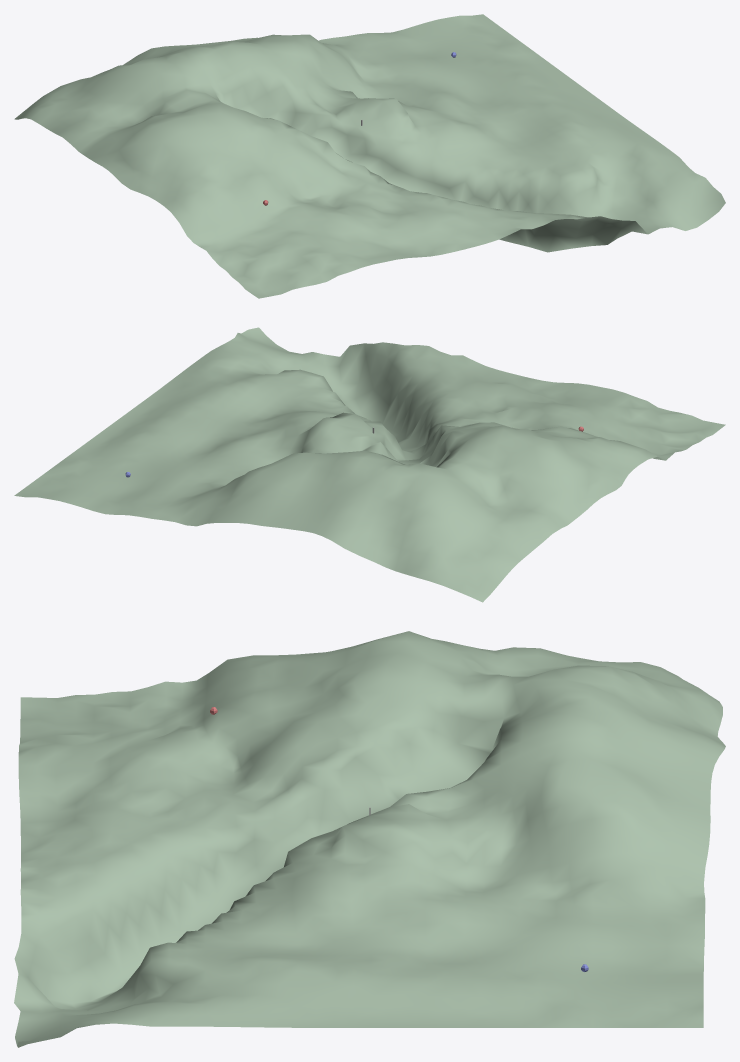
File: 0427_map.fbx
3 views of the same model, one above another, from view 1: azimuth 30°, elevation 25°; view 2: azimuth 150°, elevation 25°; view 3: azimuth 270°, elevation 25° (orthographic). The views are drawn at different scales.
Visible parts, largest first — view 1: pPlane1; view 2: pPlane1; view 3: pPlane1.
Boxes of the visible parts, box(x1,y1,x2,y2) form: pPlane1: box(14, 14, 725, 298); pPlane1: box(14, 327, 725, 602); pPlane1: box(14, 631, 725, 1047).
Bounding box in the file's own units: 929 × 227 × 842.
